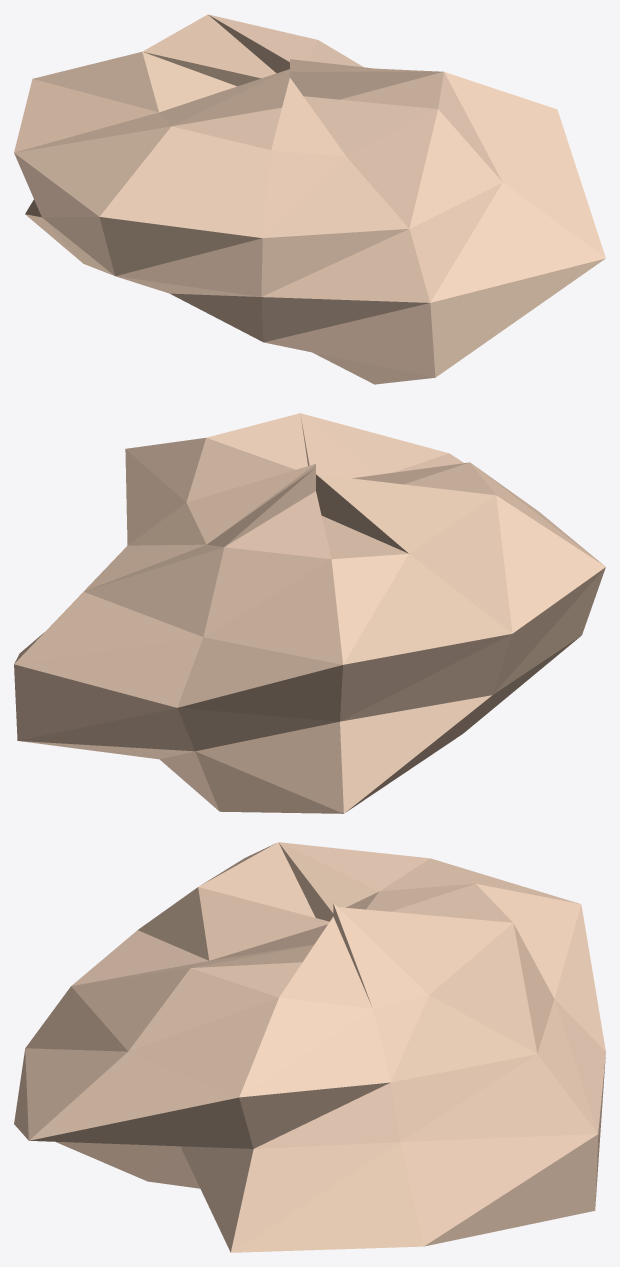
The model's file is rock_082.obj.
3 renders of one model, top to bottom at view 1: azimuth 30°, elevation 25°; view 2: azimuth 150°, elevation 25°; view 3: azimuth 270°, elevation 25°, orthographic. The views are drawn at different scales.
Size of the model in its own units: 0.5637 by 0.3196 by 0.5683.
